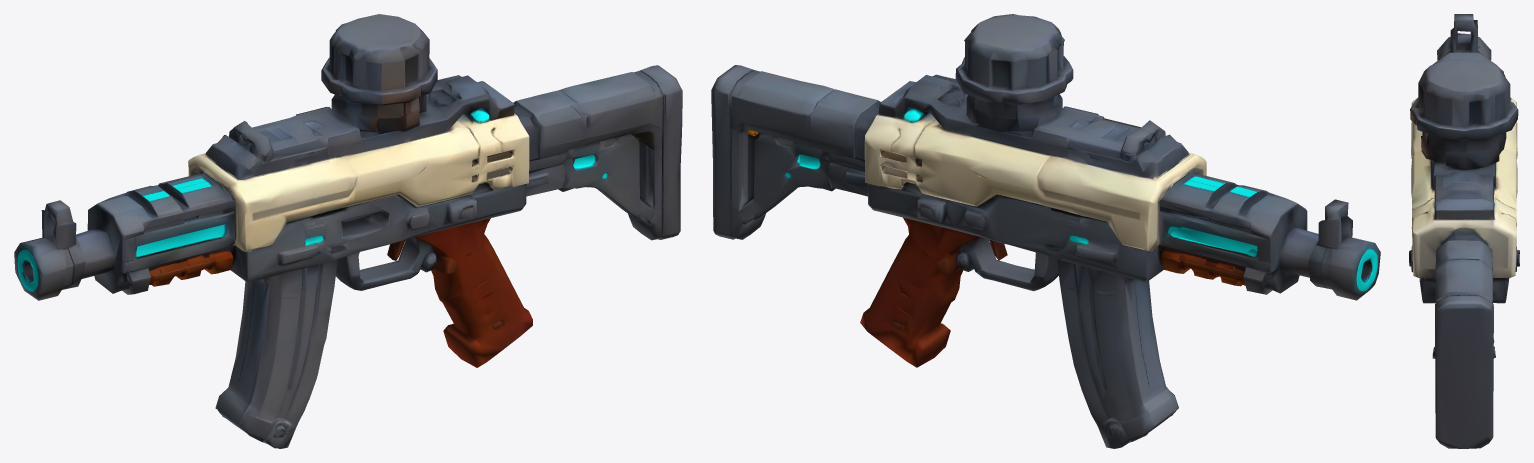
File: stitcher.fbx
3 renders of one model, left to right at view 1: azimuth 30°, elevation 25°; view 2: azimuth 150°, elevation 25°; view 3: azimuth 270°, elevation 25°, orthographic. The views are drawn at different scales.
Visible parts, largest first — view 1: tripo_node_52d5f5c9; view 2: tripo_node_52d5f5c9; view 3: tripo_node_52d5f5c9.
Boxes of the visible parts, bbox=[...] form: tripo_node_52d5f5c9: bbox=[14, 14, 682, 448]; tripo_node_52d5f5c9: bbox=[711, 14, 1380, 448]; tripo_node_52d5f5c9: bbox=[1409, 14, 1519, 448].
Size of the model in its own units: 0.9789 by 0.5565 by 0.1596.
